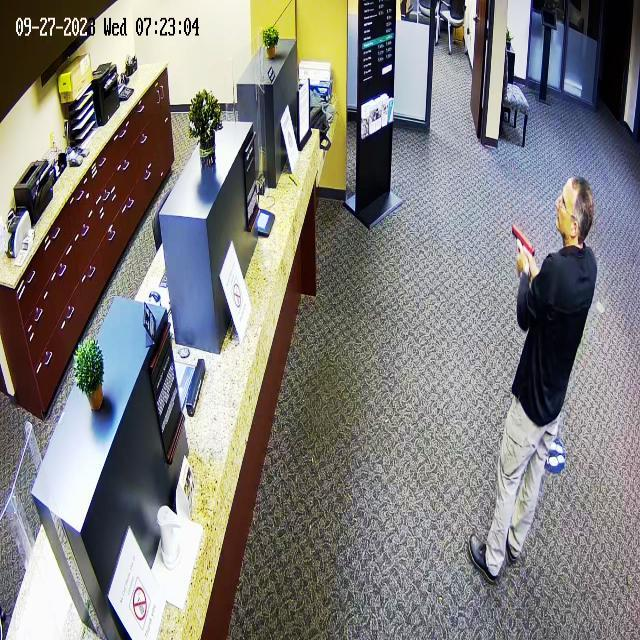Gun: (494, 214, 538, 277)
